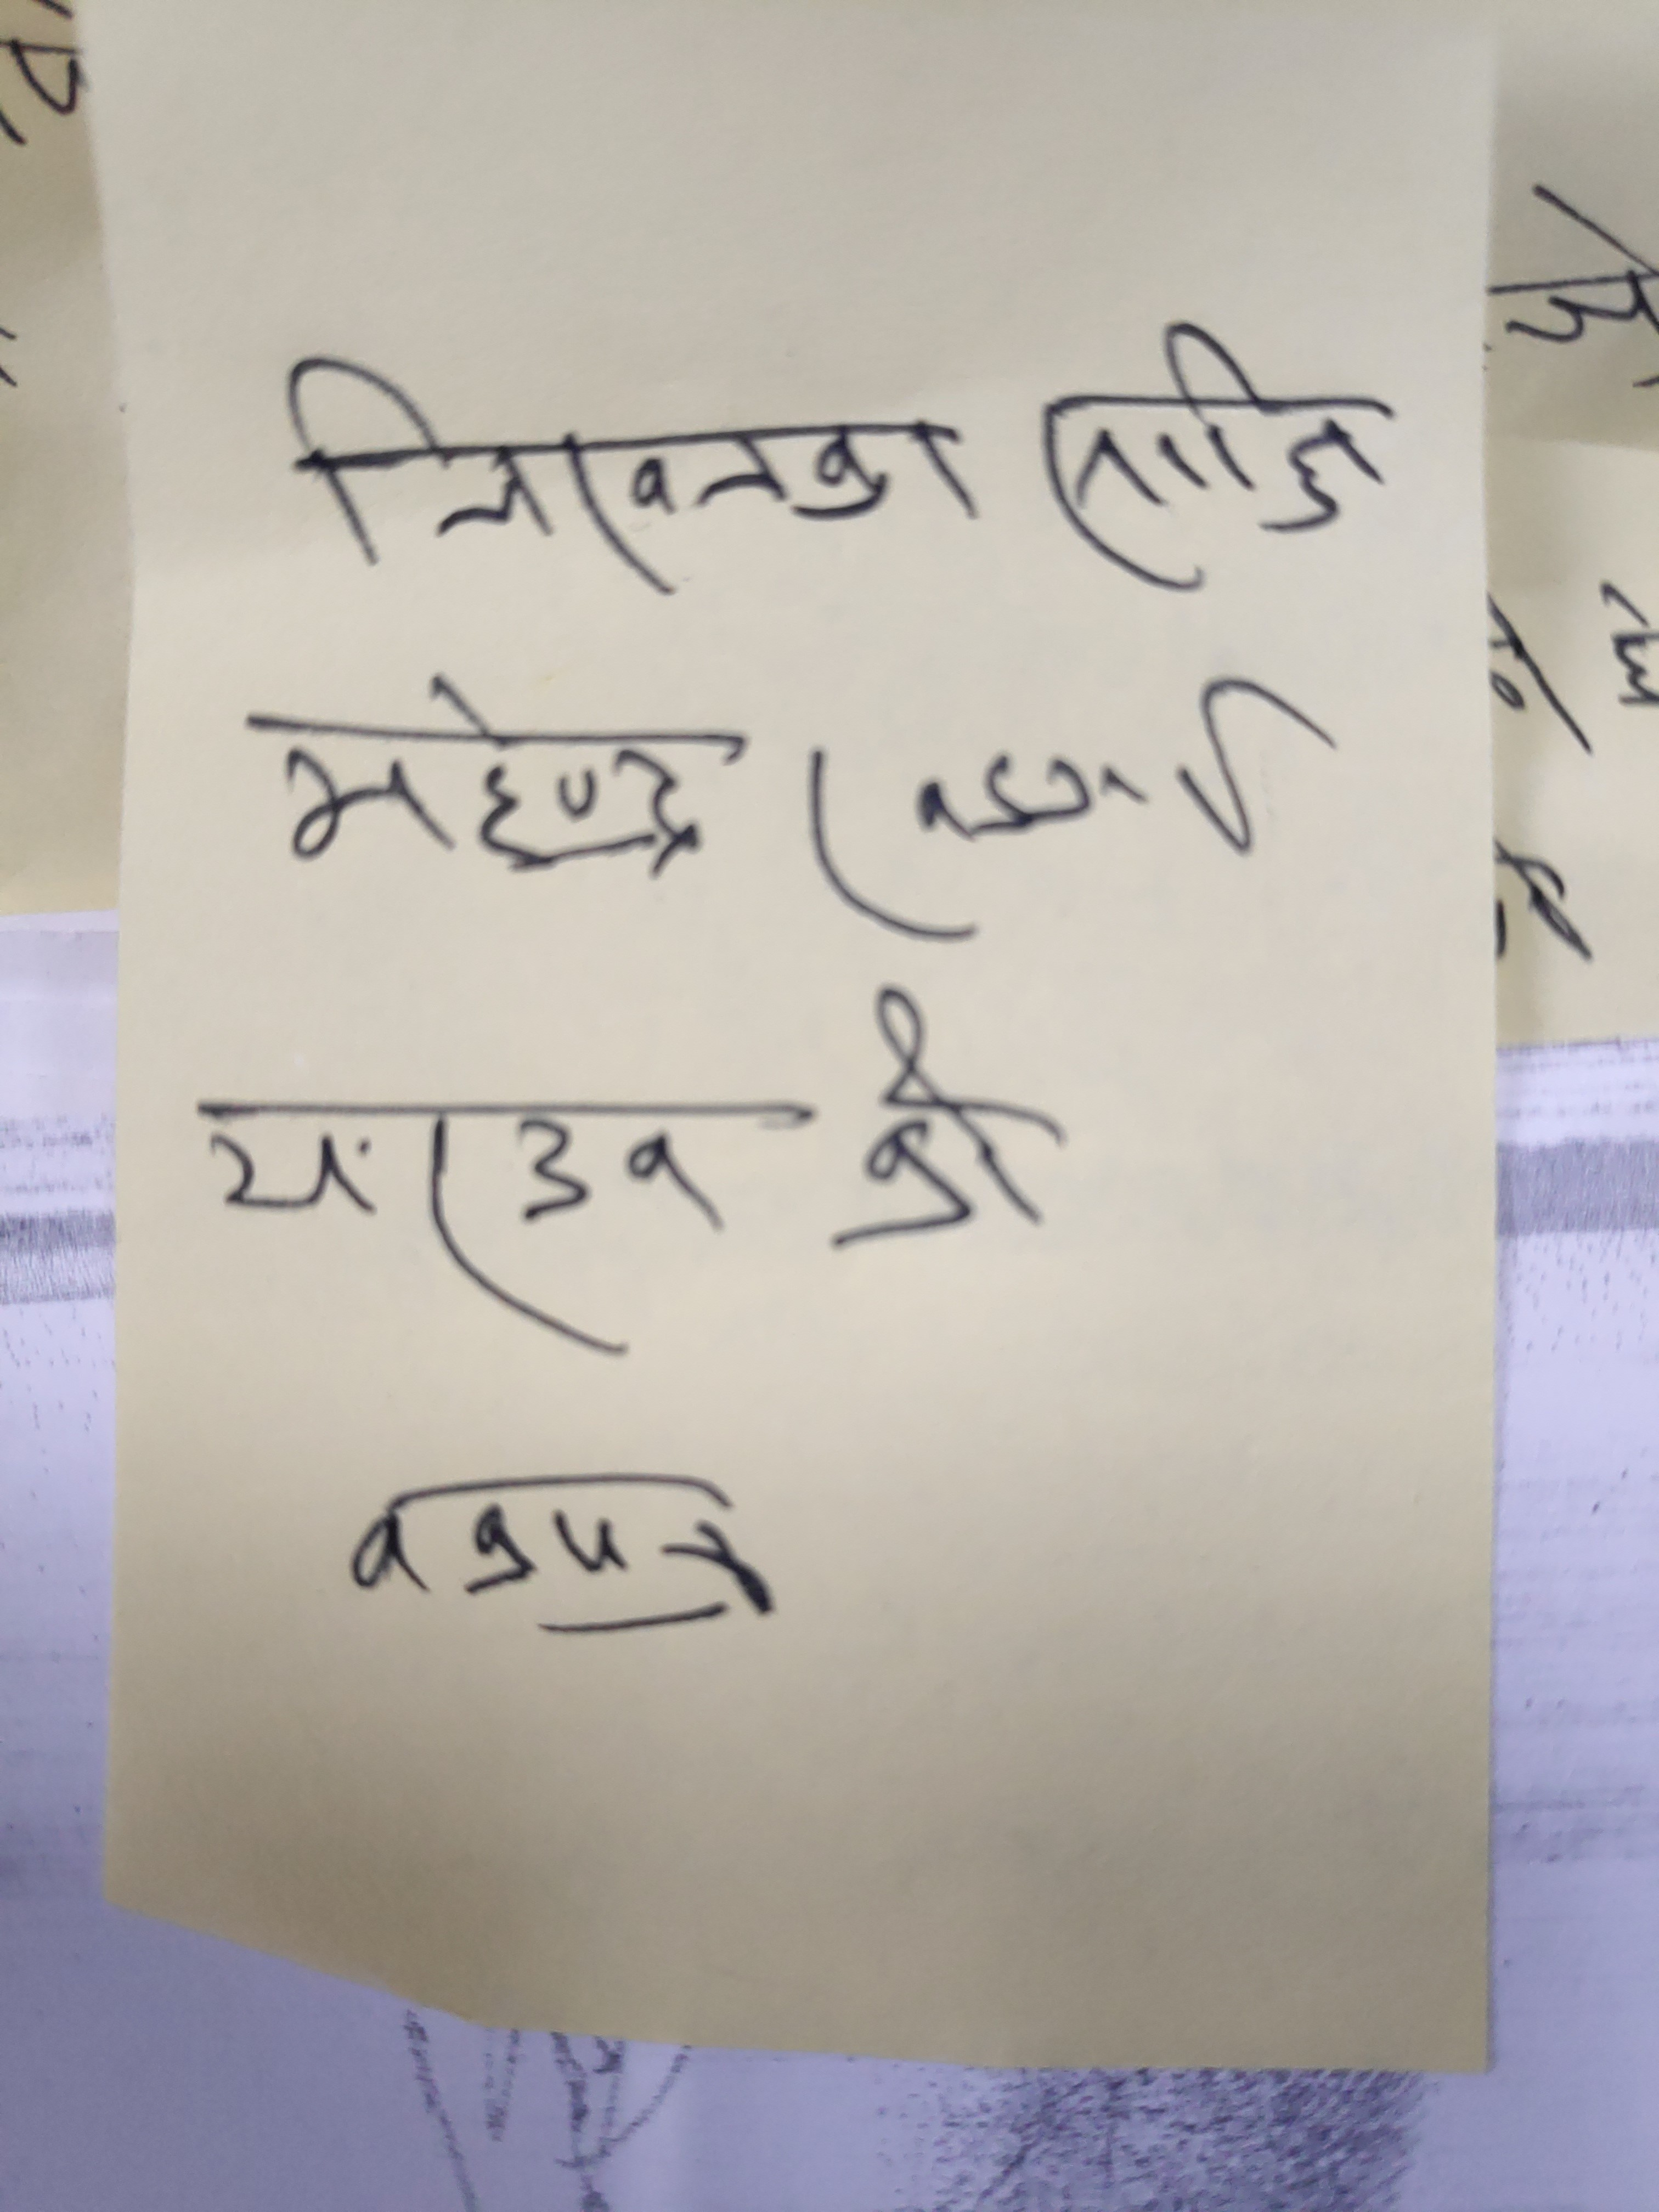text: (789, 644, 1328, 948), (275, 357, 979, 589), (188, 1076, 751, 1329), (253, 664, 748, 887), (1021, 315, 1406, 592), (338, 1458, 816, 1663), (824, 996, 1058, 1270)
